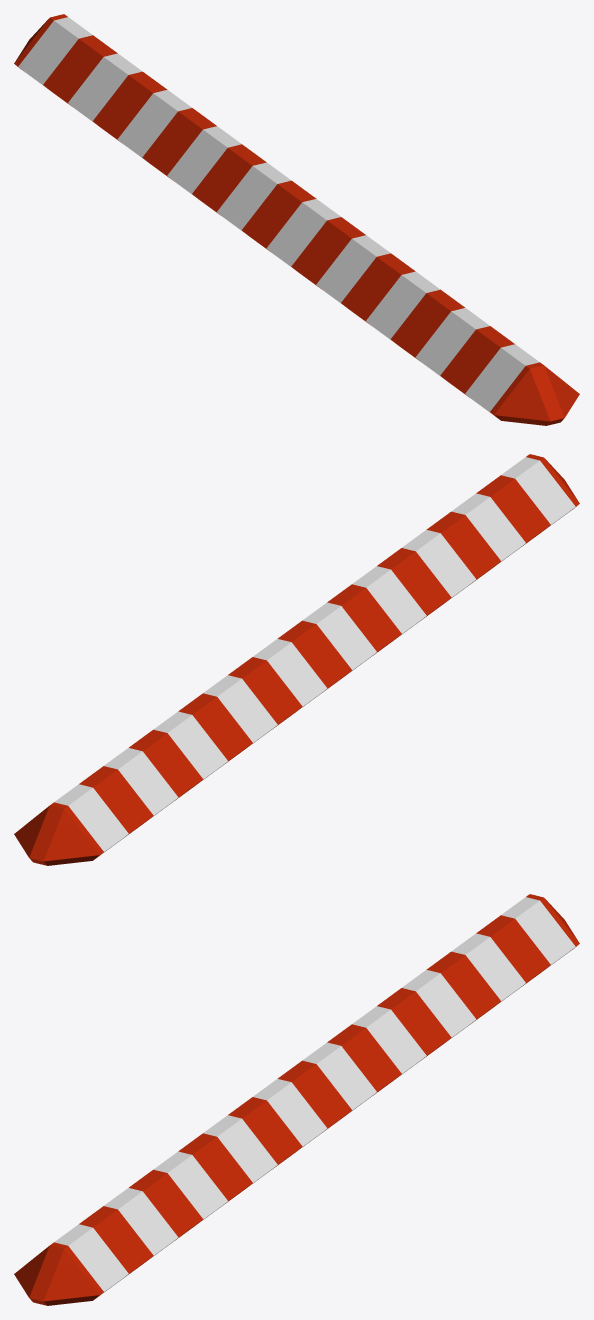
Rendered from rc_bar.fbx.
The picture shows the model from 3 angles, top to bottom: view 1: azimuth 30°, elevation 25°; view 2: azimuth 150°, elevation 25°; view 3: azimuth 330°, elevation 25°; orthographic projection.
Visible parts, largest first — view 1: rc_bar; view 2: rc_bar; view 3: rc_bar.
Part boxes in pixels (<box>): rc_bar: <box>14,14,579,425</box>; rc_bar: <box>14,454,579,865</box>; rc_bar: <box>14,894,579,1305</box>.
Bounding box in the file's own units: 600 × 300 × 6300.
